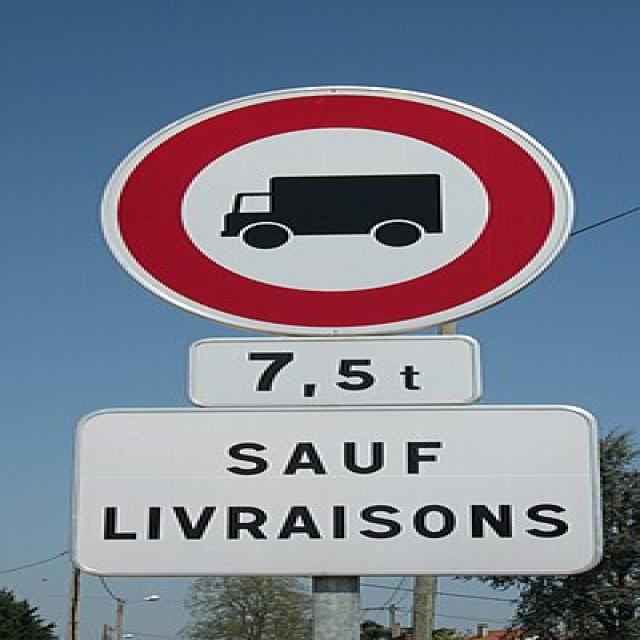forbidden: (97, 87, 575, 337)
